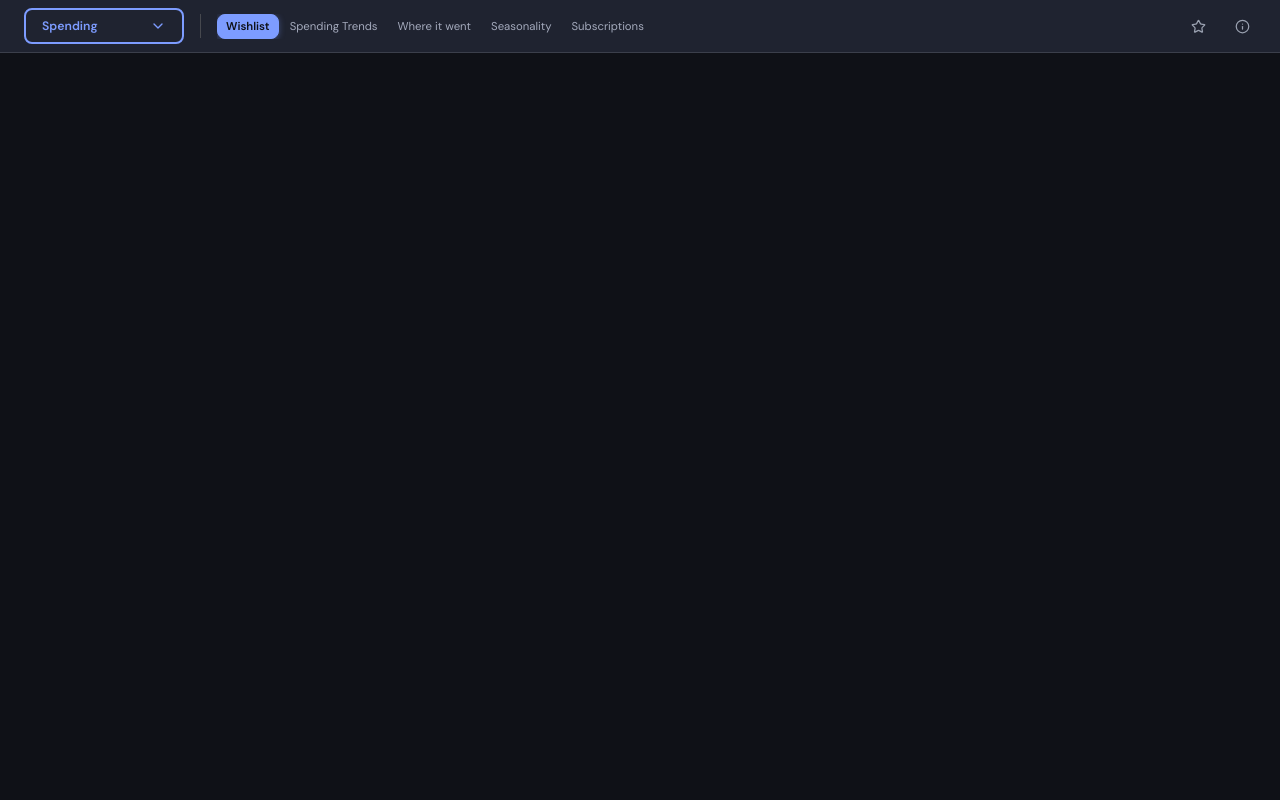
Test: ReportsOverviewDialog › switches to a report and closes when its name is picked
The width and height of the screenshot is (1280, 800).
Step 1. Click the button named "About these reports" → (1242, 26), box [1228,12,1256,40]
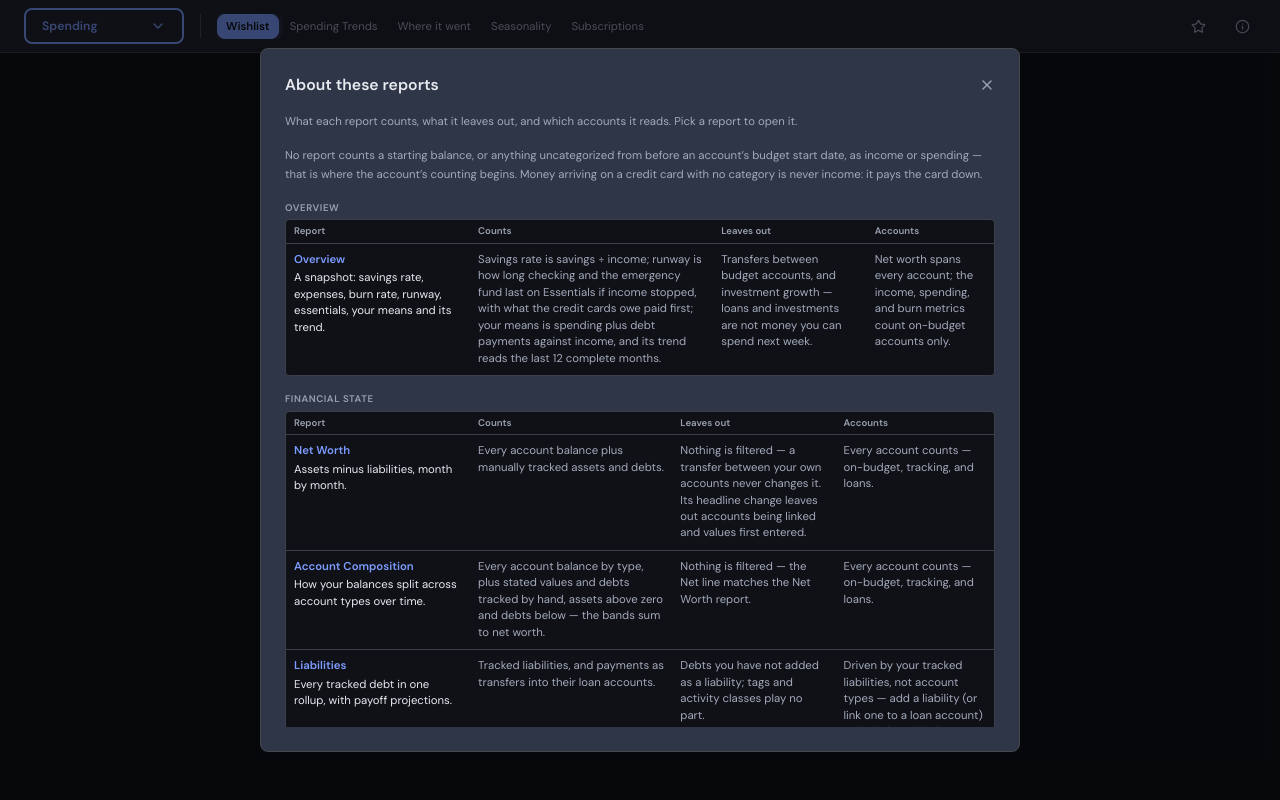
Step 2. Click the button "Net Worth" → (322, 451), box [294,443,350,460]
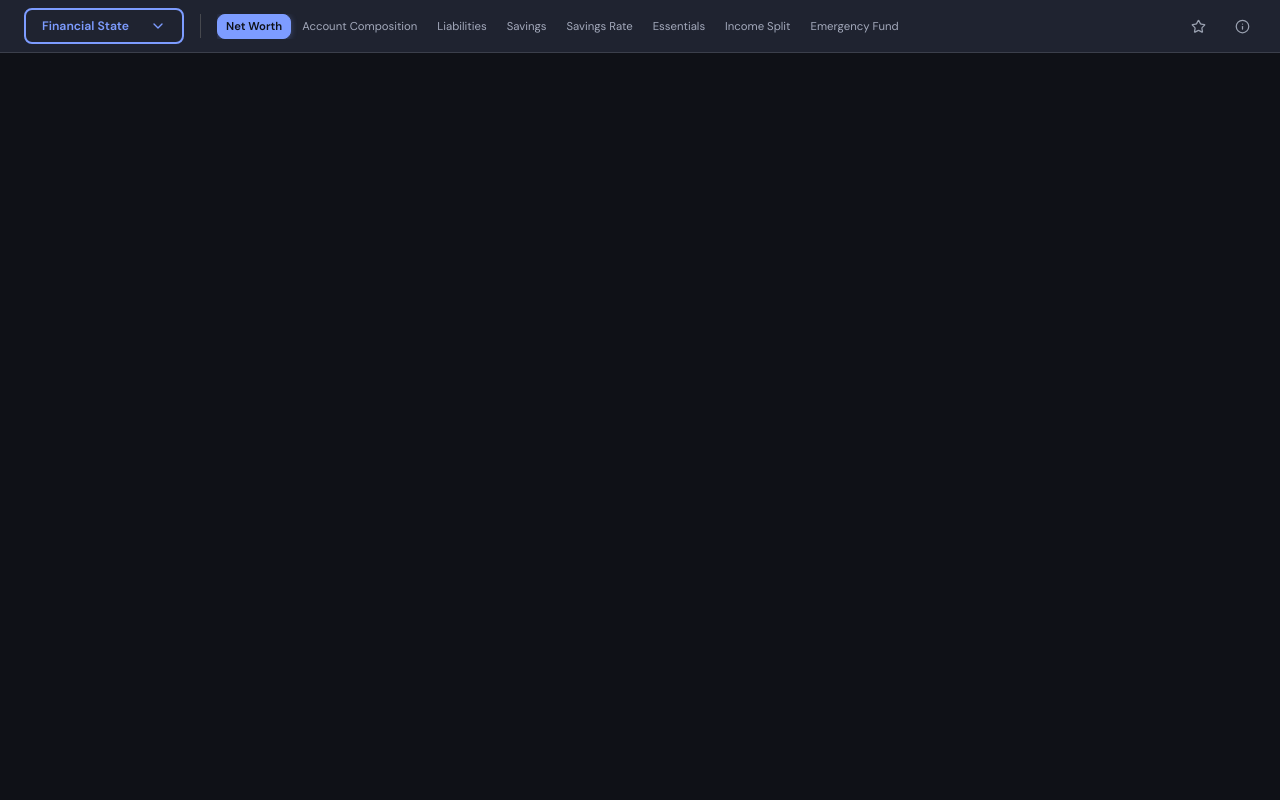
Expected: the heading "About these reports" is gone
